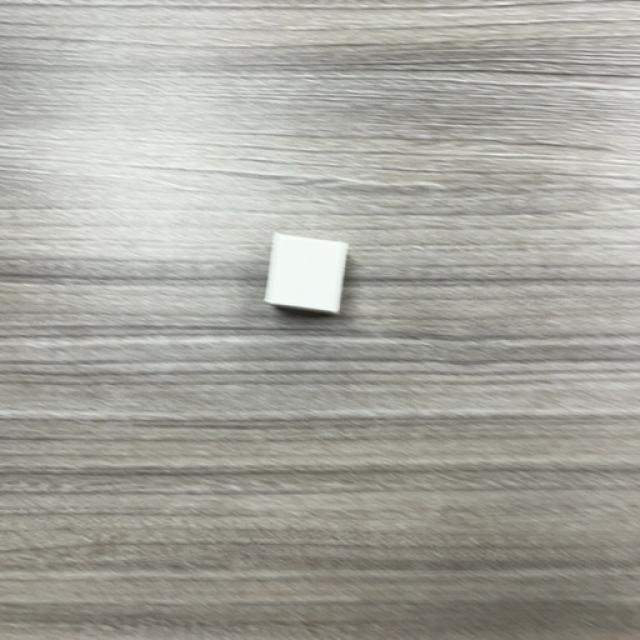Blanco: (264, 232, 349, 316)
